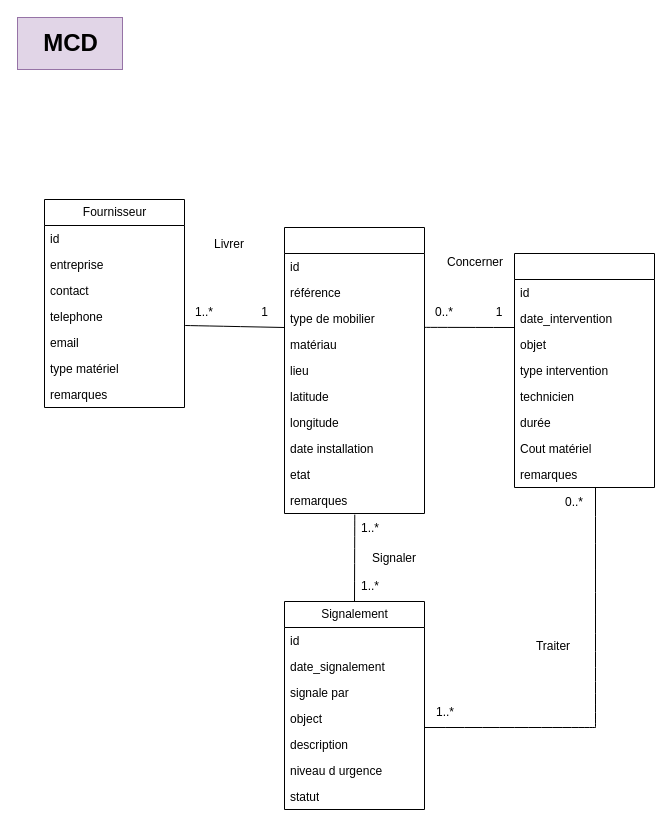
This 672x830 diagram has some shape labels left out. The shapes that lost their labels are listed below. From the top down, each one's box as (x1, y1, x2, y2) in pixels, then its label:
(284, 226, 424, 514): Inventaire
(514, 252, 654, 488): Interventions
